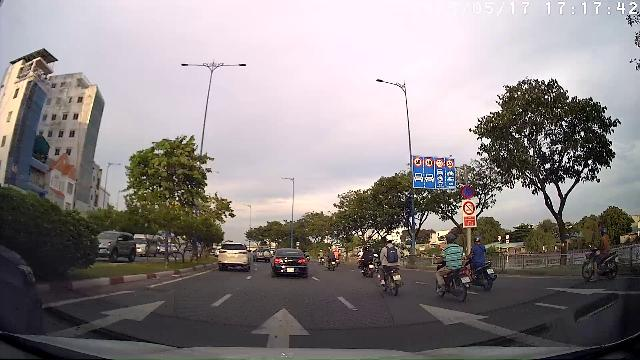127-toc-do-toi-da-50: (446, 159, 454, 169), (436, 158, 444, 168)
130-cam-dung-va-do-xe: (462, 185, 474, 198)
